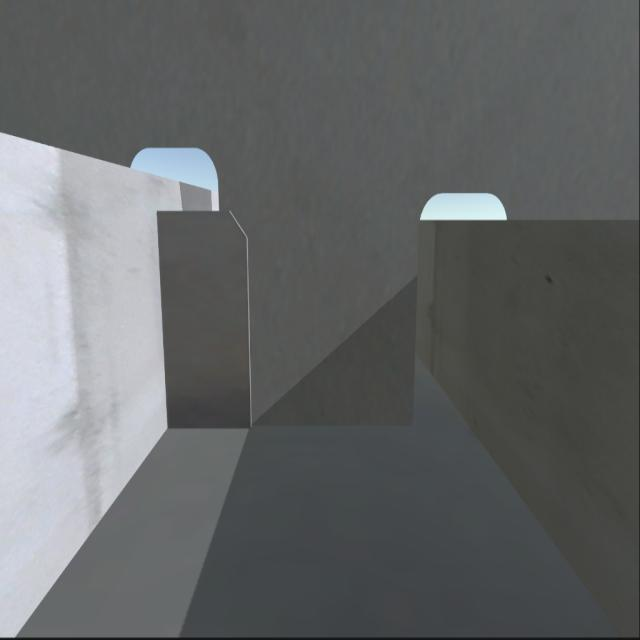fillet_yong_jeop_jang: (165, 408, 415, 435)
longi_yong_jeop_jang: (158, 205, 170, 432)
plate_CP03: (164, 201, 249, 432)
